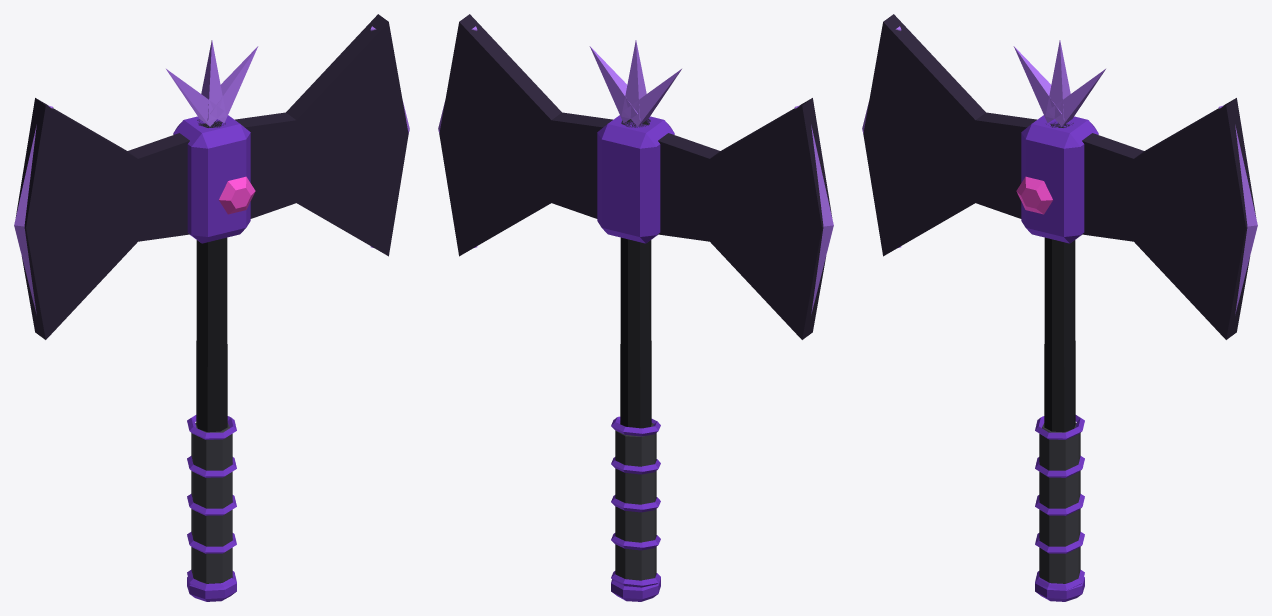
Rendered from ShadowAxe.fbx.
The picture shows the model from 3 angles, left to right: view 1: azimuth 30°, elevation 25°; view 2: azimuth 150°, elevation 25°; view 3: azimuth 330°, elevation 25°; orthographic projection.
Parts seen in each view (by area): view 1: ShadowAxe; view 2: ShadowAxe; view 3: ShadowAxe.
Boxes of the visible parts, x1,y1,x2,y2 form: ShadowAxe: (14,14,409,601); ShadowAxe: (438,14,833,601); ShadowAxe: (862,14,1257,601).
Bounding box in the file's own units: 3 × 4.02 × 0.58.
1 material, 1 textured.
